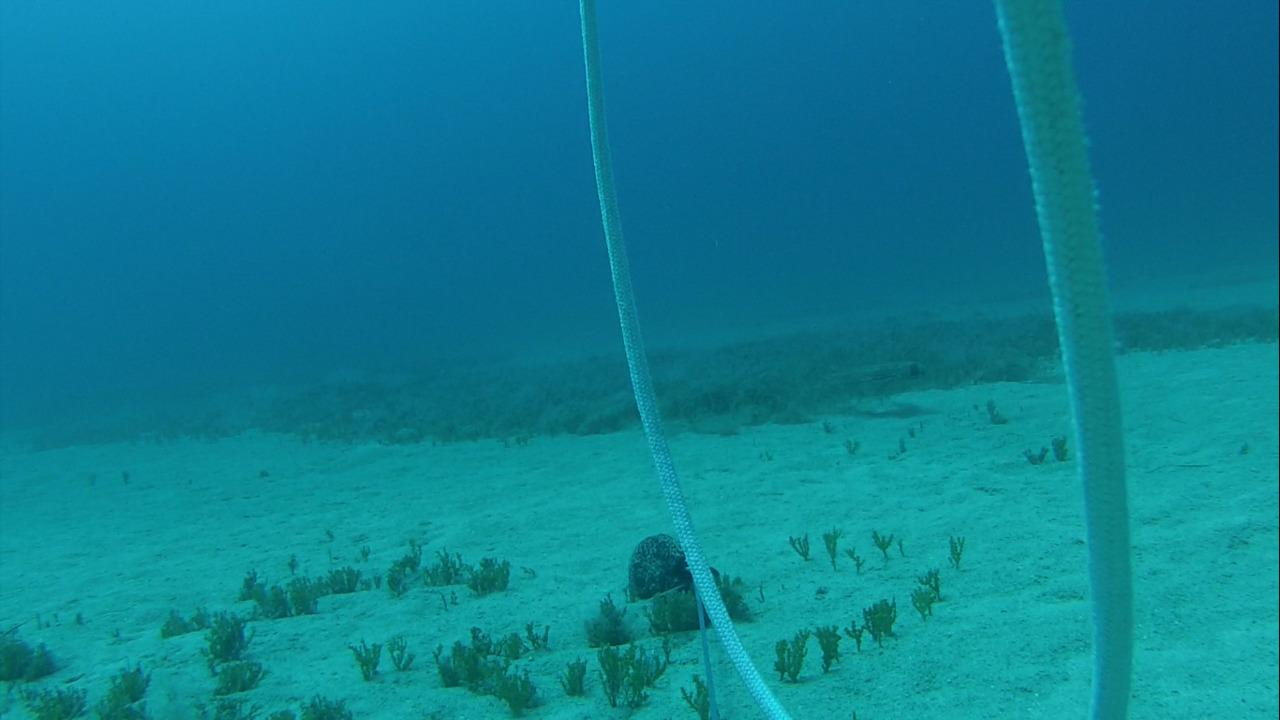dactylopterus: (796, 355, 940, 395)
